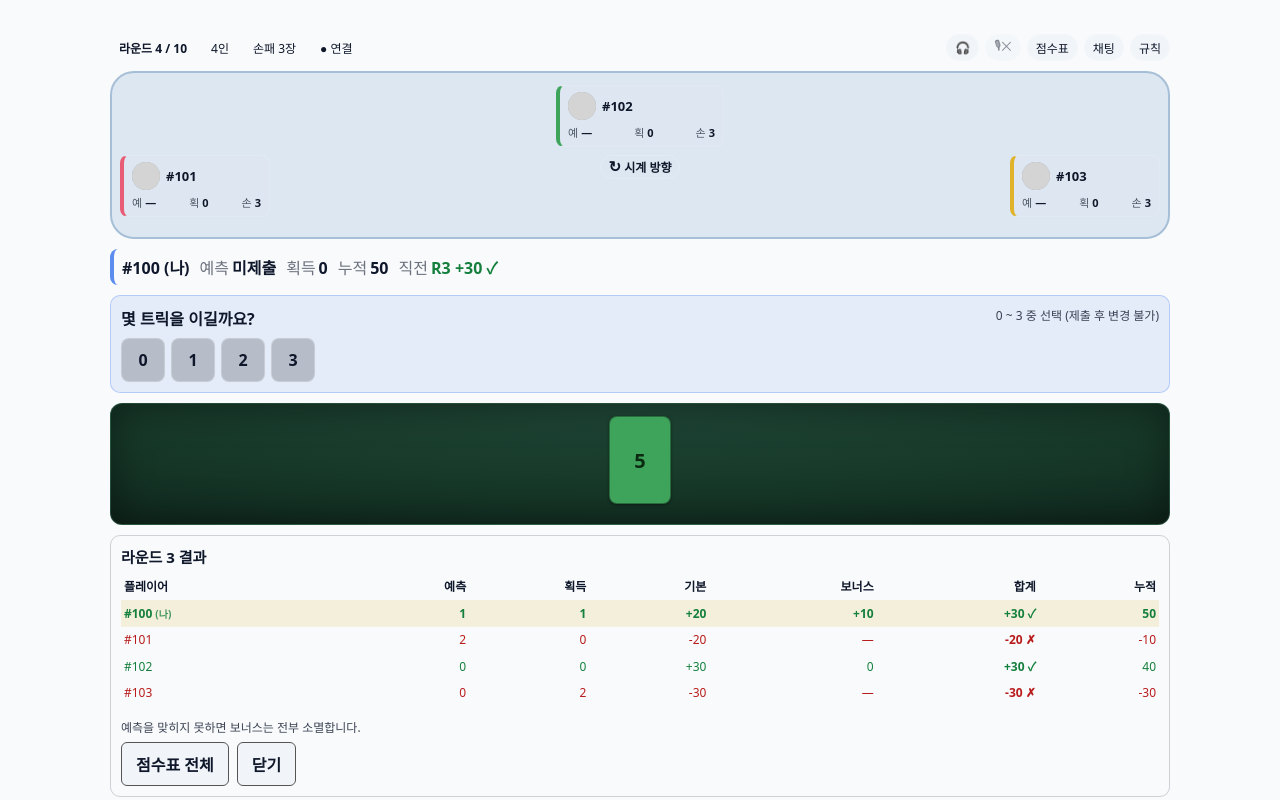
Test: 점수표 모달 (D-120) › 헤더의 점수표 버튼이 dialog 를 연다
Click the button "점수표" at [1052, 48], box [1027, 34, 1078, 61]
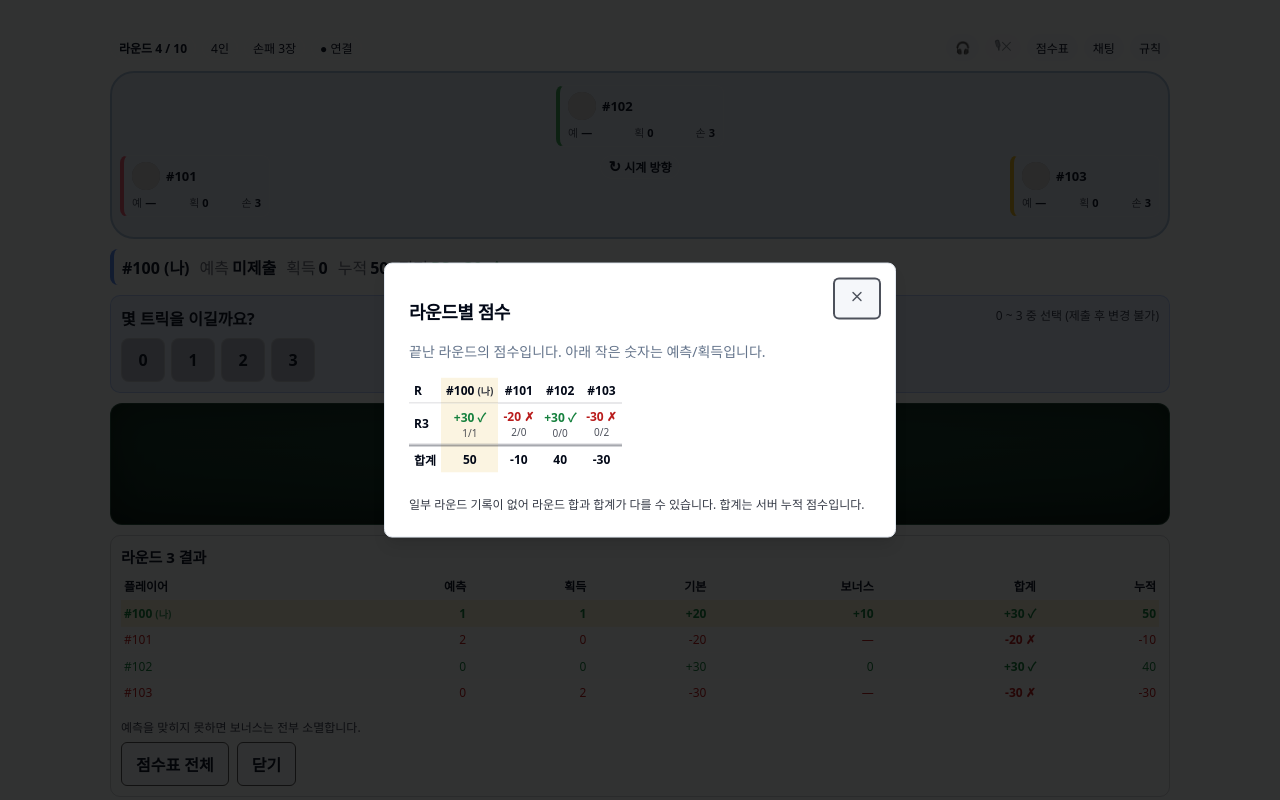
Now the table shows "R3", box [409, 377, 622, 472]
